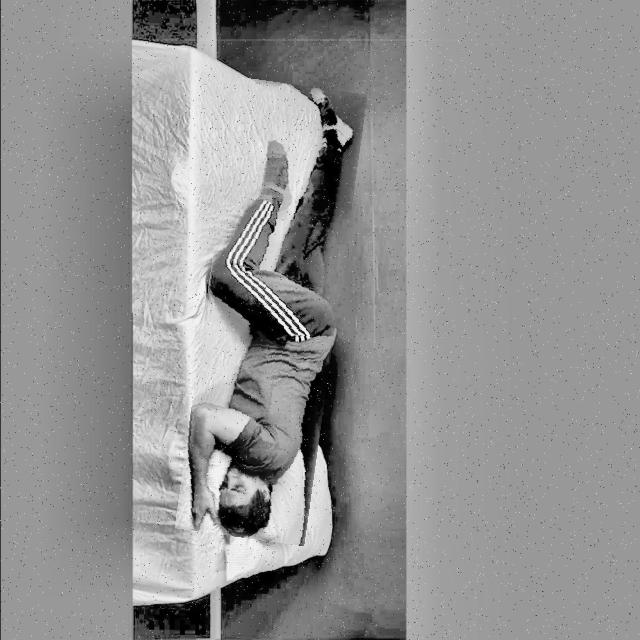Not_Supine: (188, 88, 352, 537)
